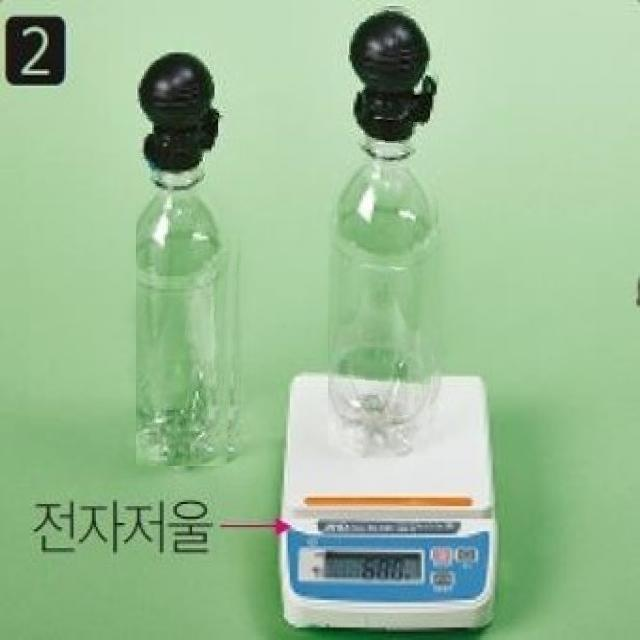plastic bottle: (328, 2, 442, 458), (136, 51, 248, 467)
